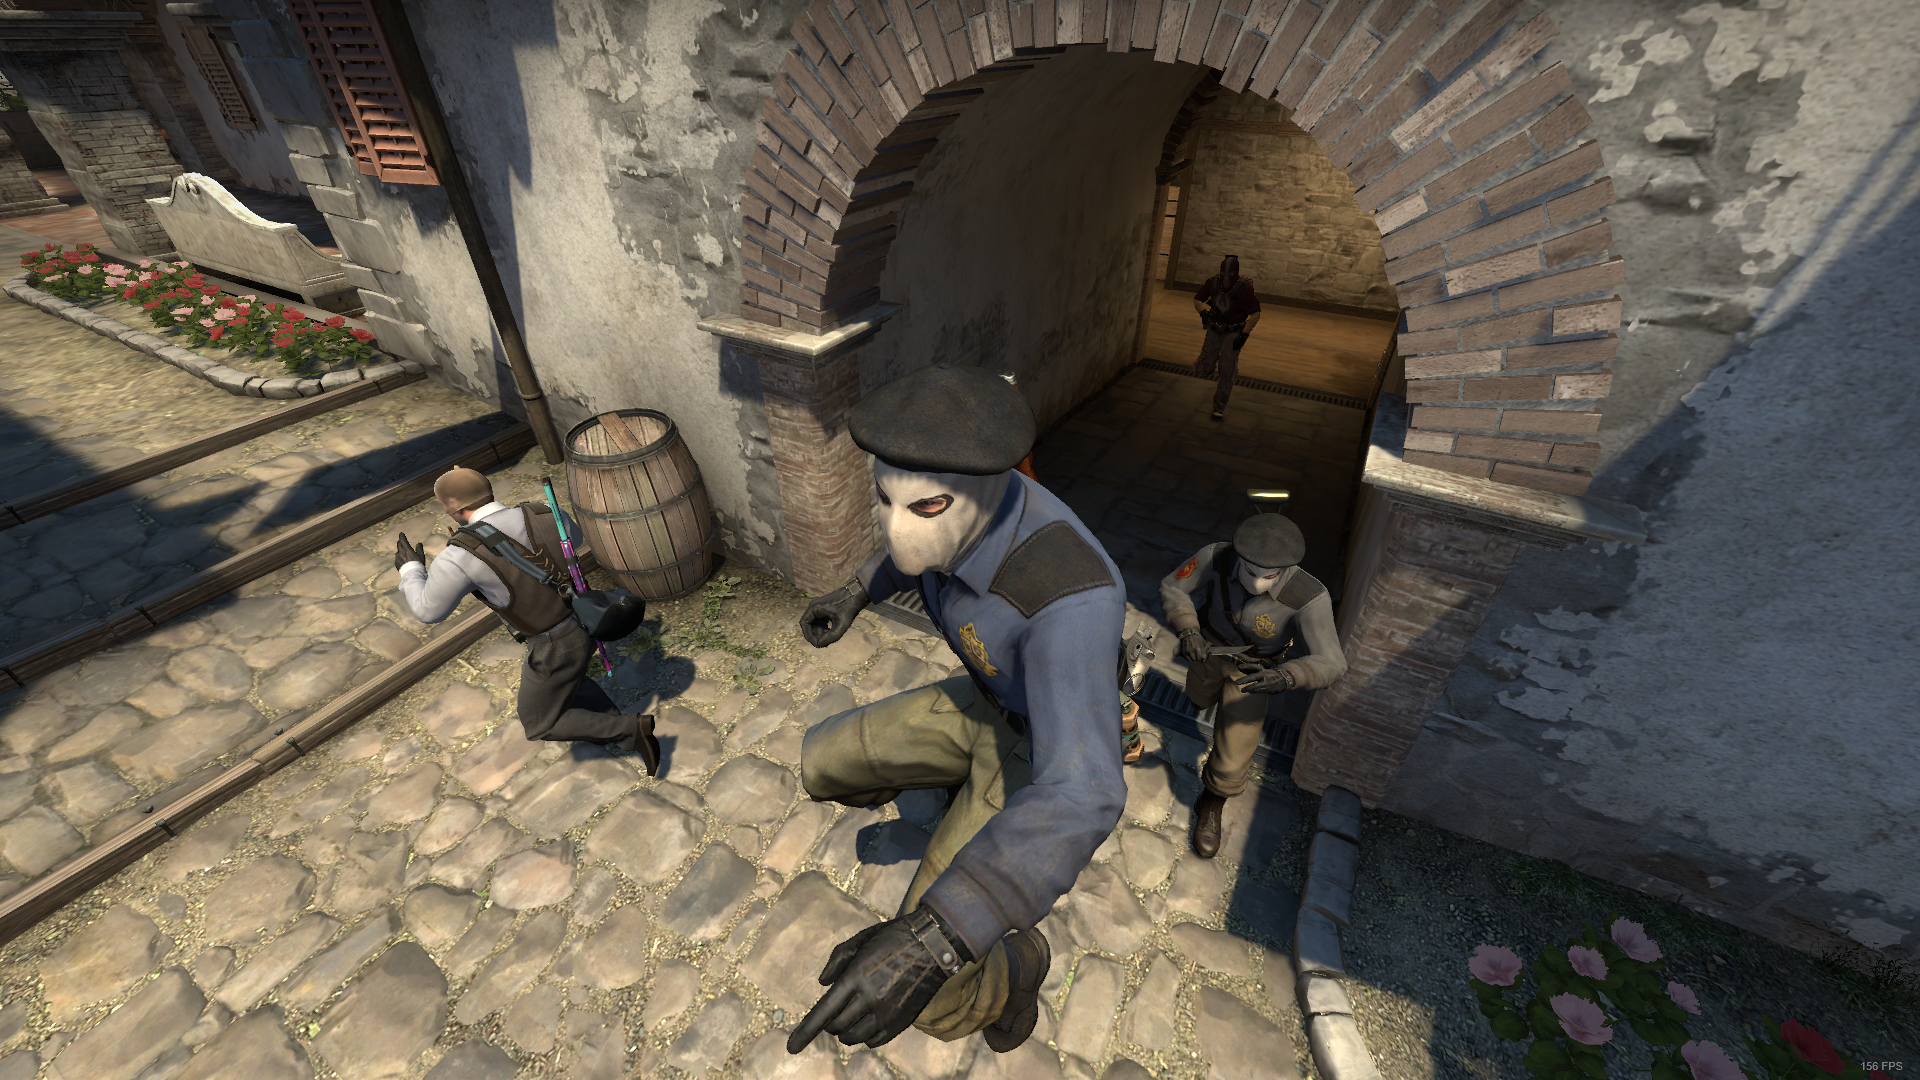t: (774, 357, 1164, 1051), (1164, 506, 1352, 858)
